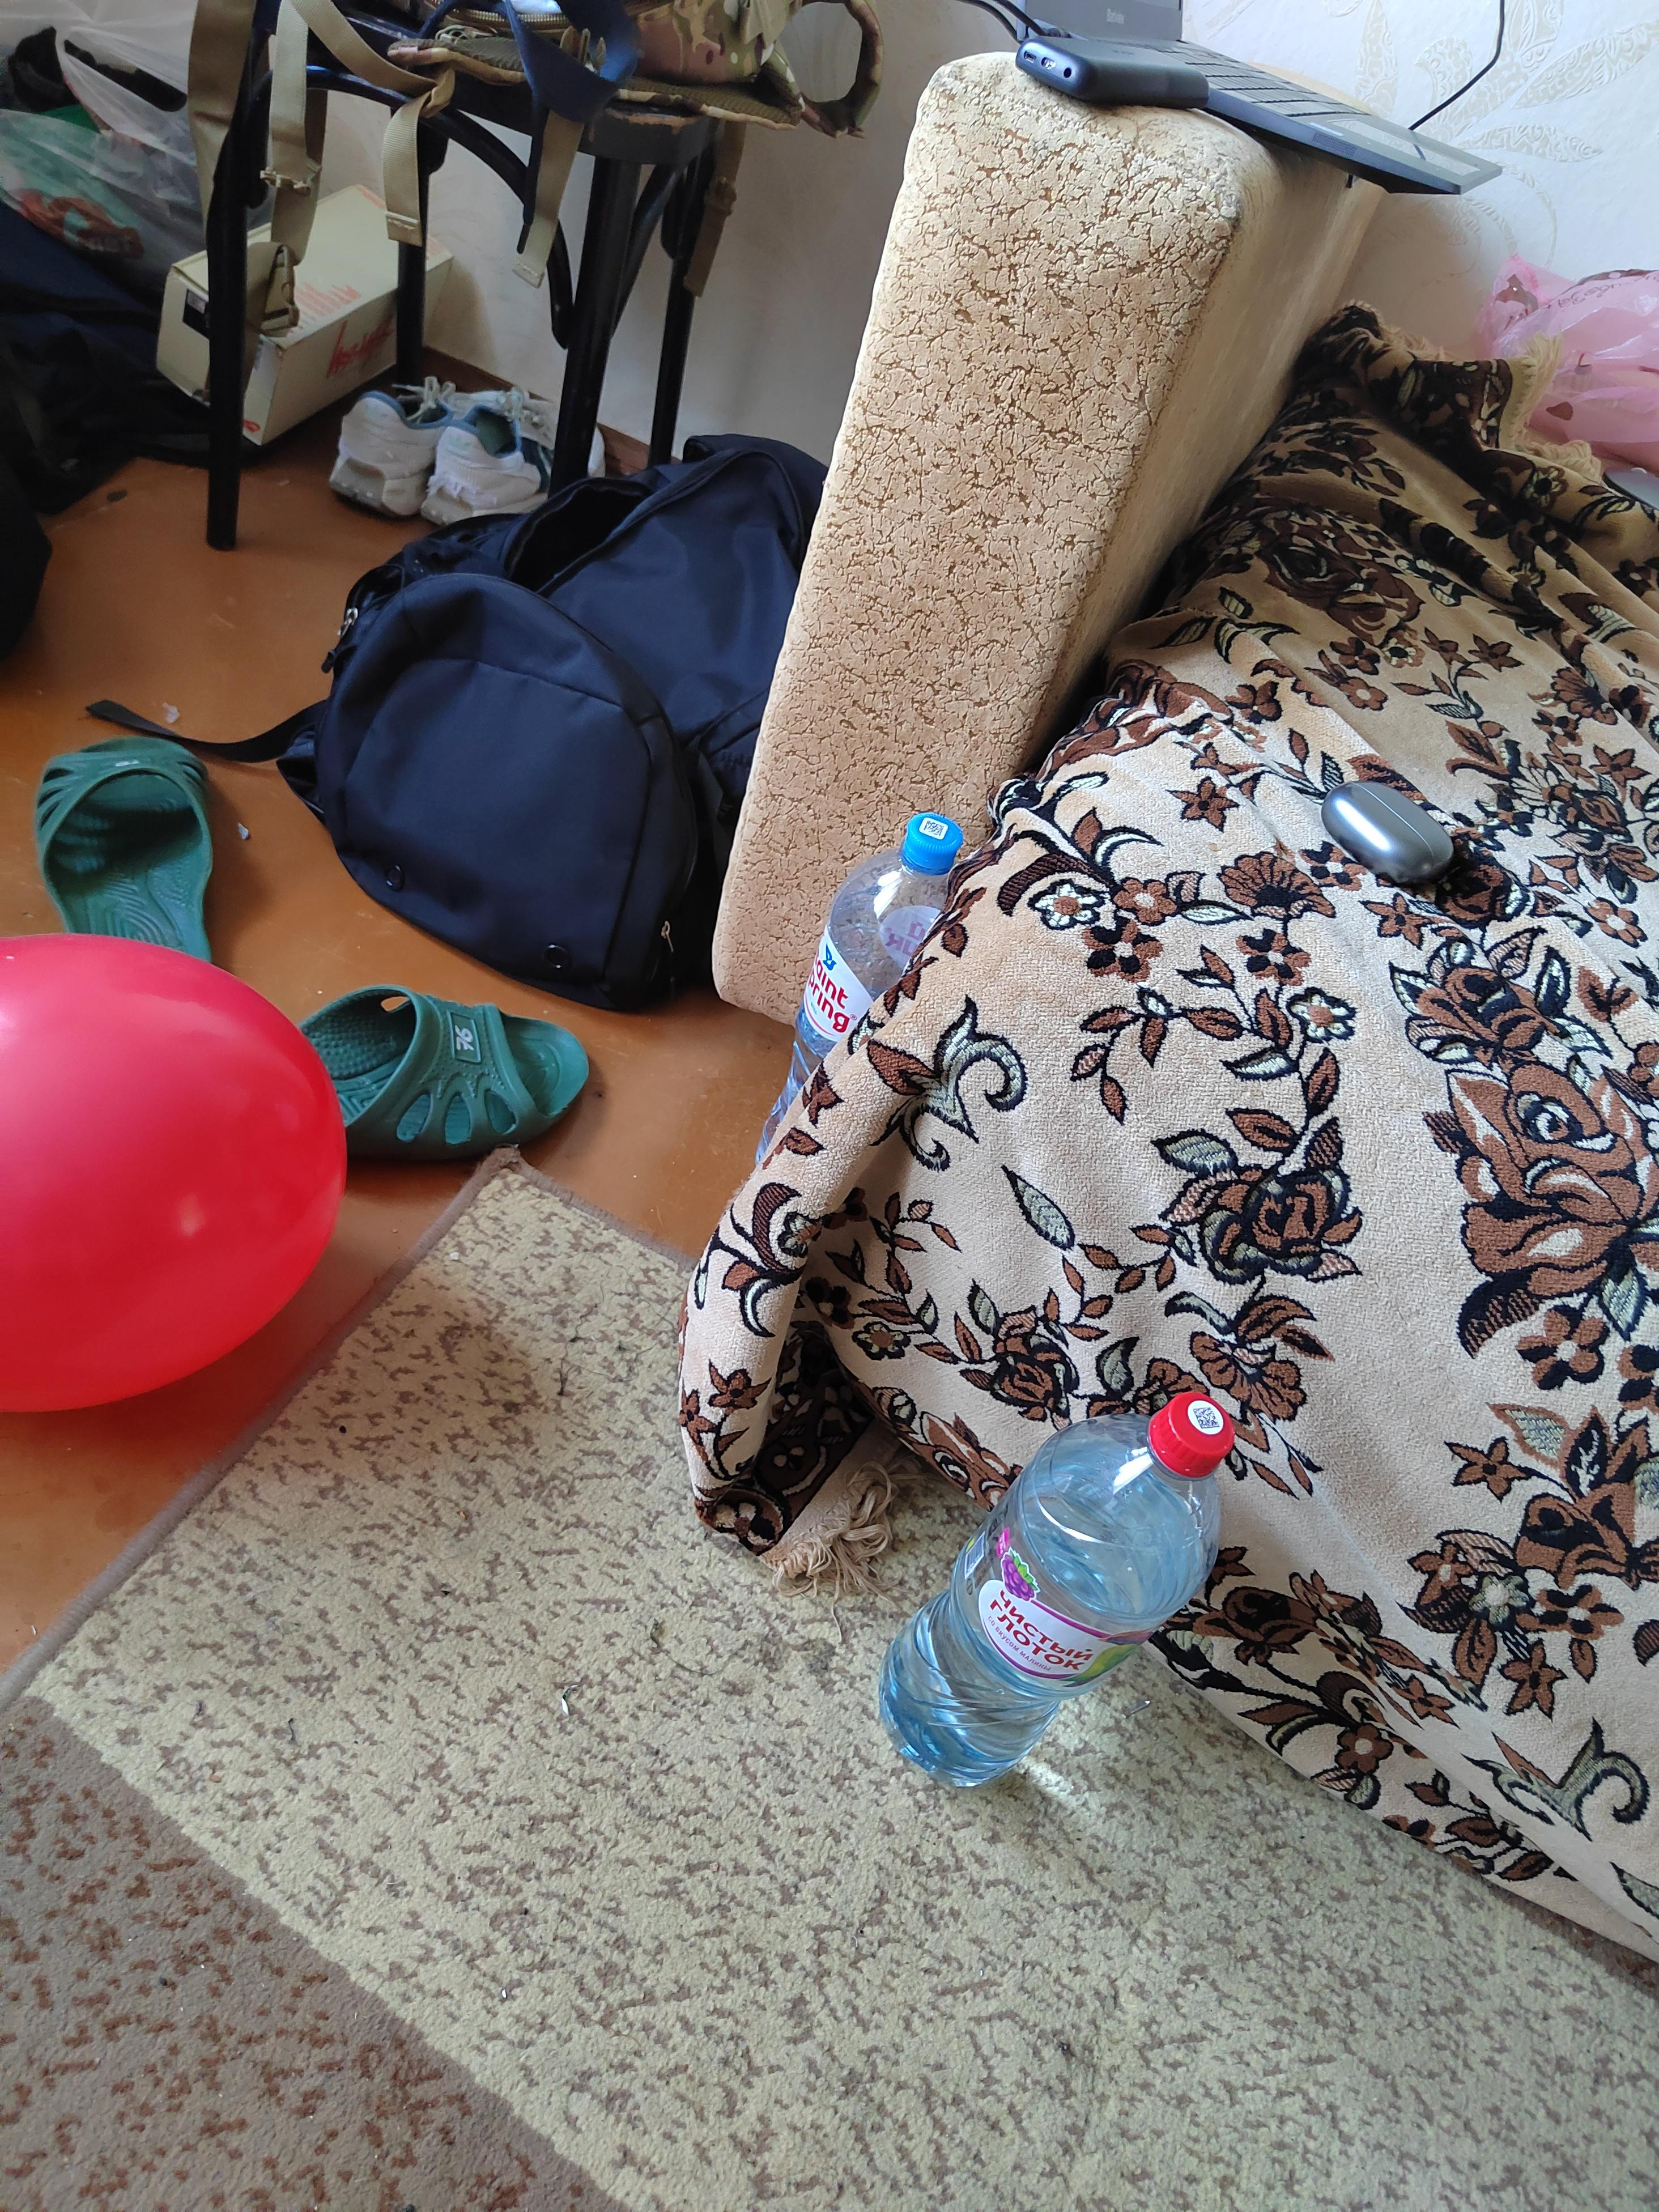red: (0, 913, 364, 1456)
